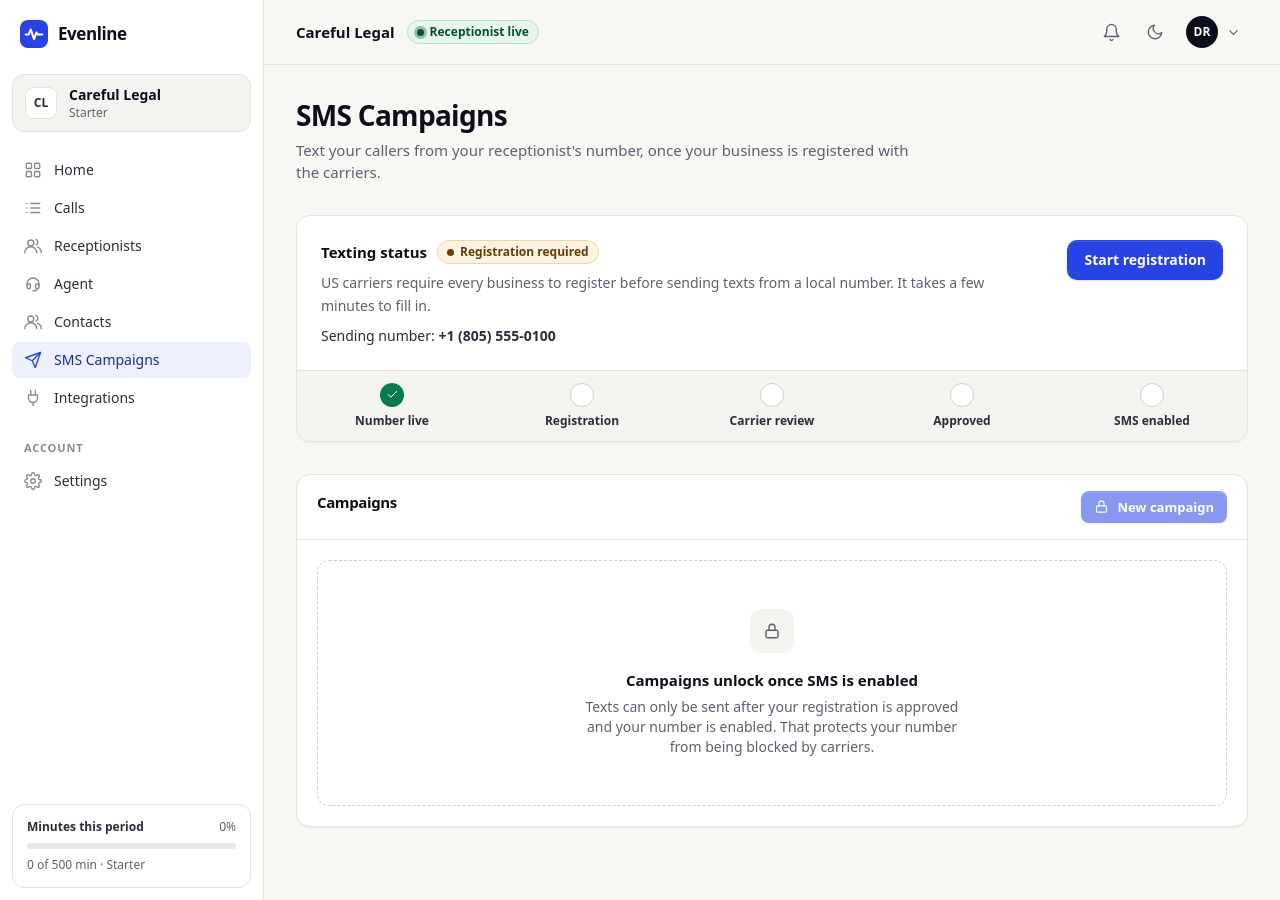
SMS › asks for registration before anything can be sent
Check: the text "Registration required" is shown, box [437,240,599,264]
Check: the button "New campaign" is disabled, box [1081,491,1227,523]
What coordinates should you click on to do the following:
click the button "Start registration"
I would click on:
 (1145, 260)
Its box is [1067,240,1223,280].
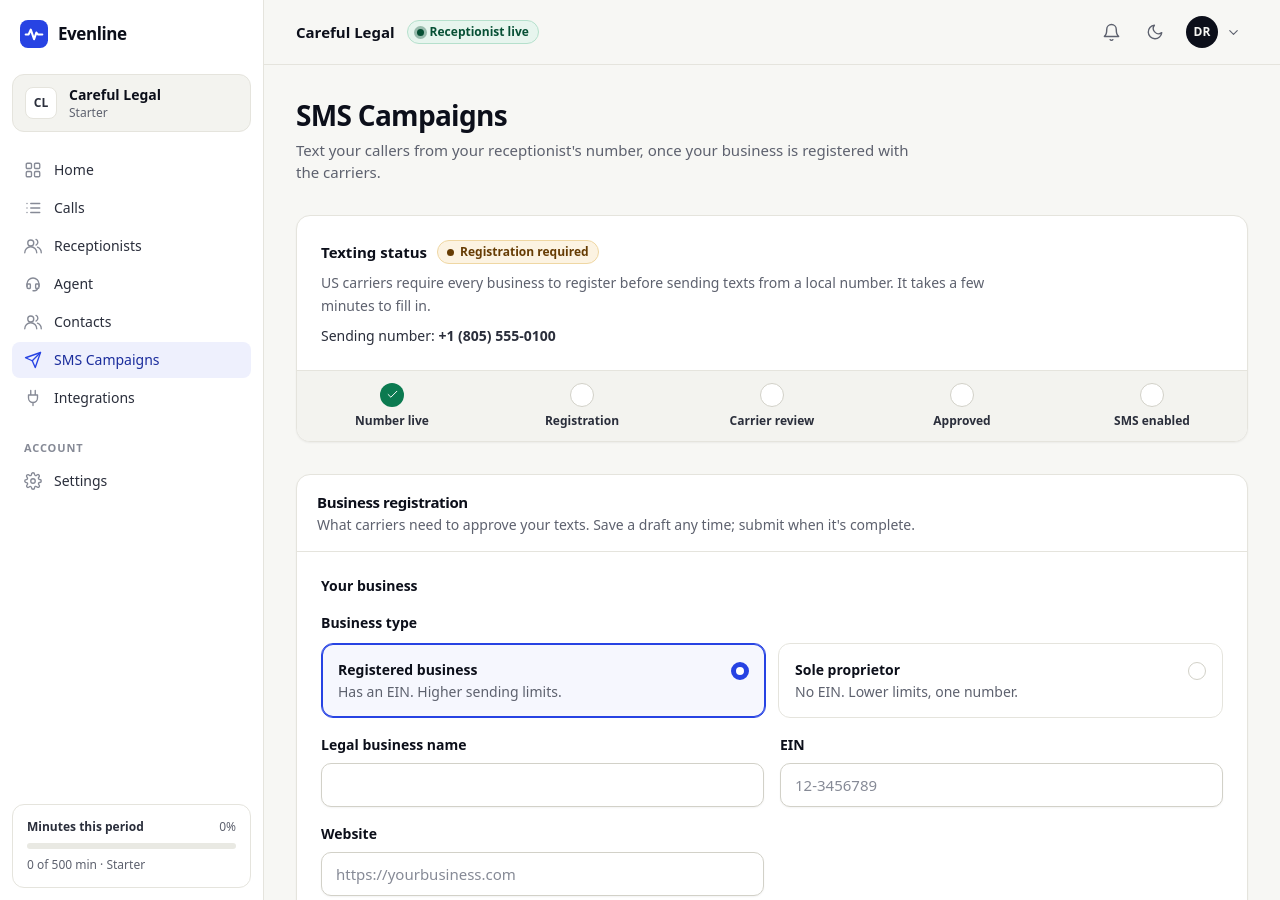
Check: the field labelled "Legal business name" is shown, box [321,763,764,807]
